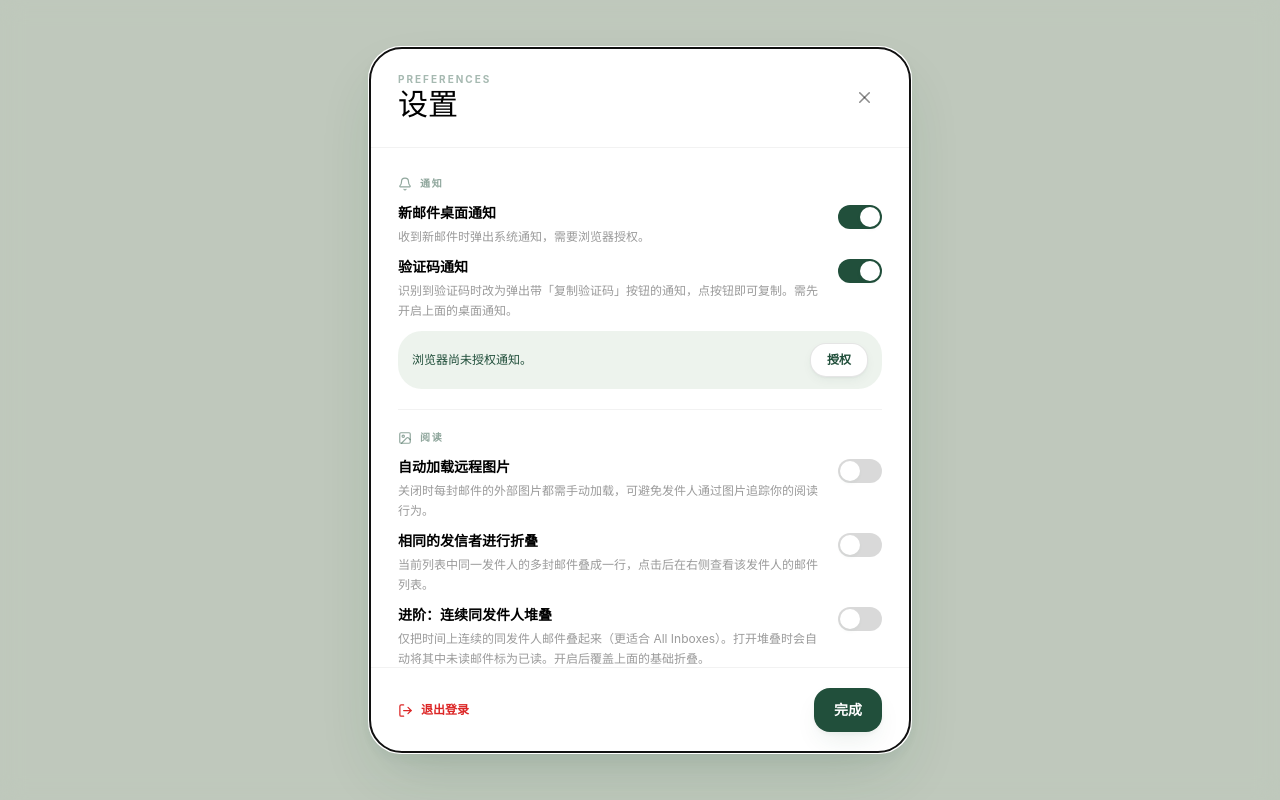
Scenario: settings dialog › shows the denial when the user refuses at the prompt
Click the button "授权".
click(839, 360)  # box [810,343,868,377]
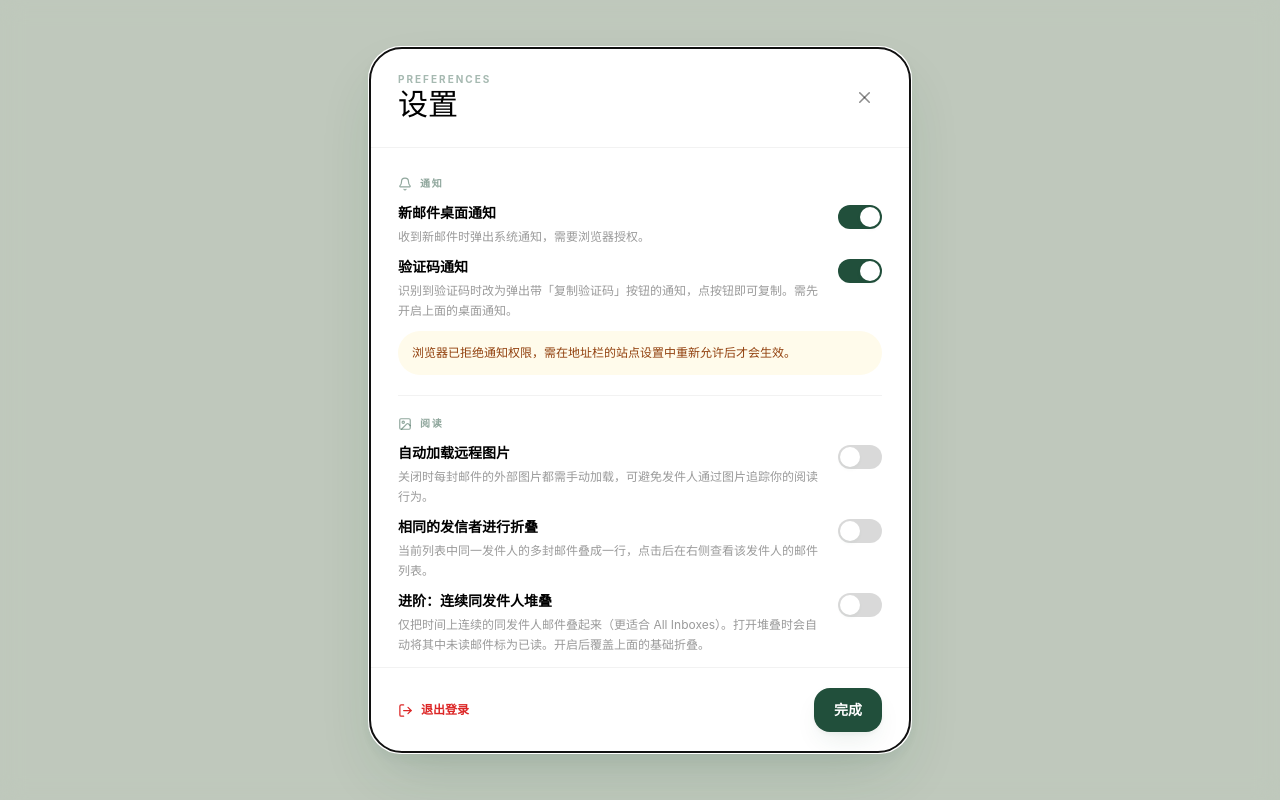
Check: the text "浏览器已拒绝通知权限，需在地址栏的站点设置中重新允许后才会生效。" is shown, box [398,331,882,375]
